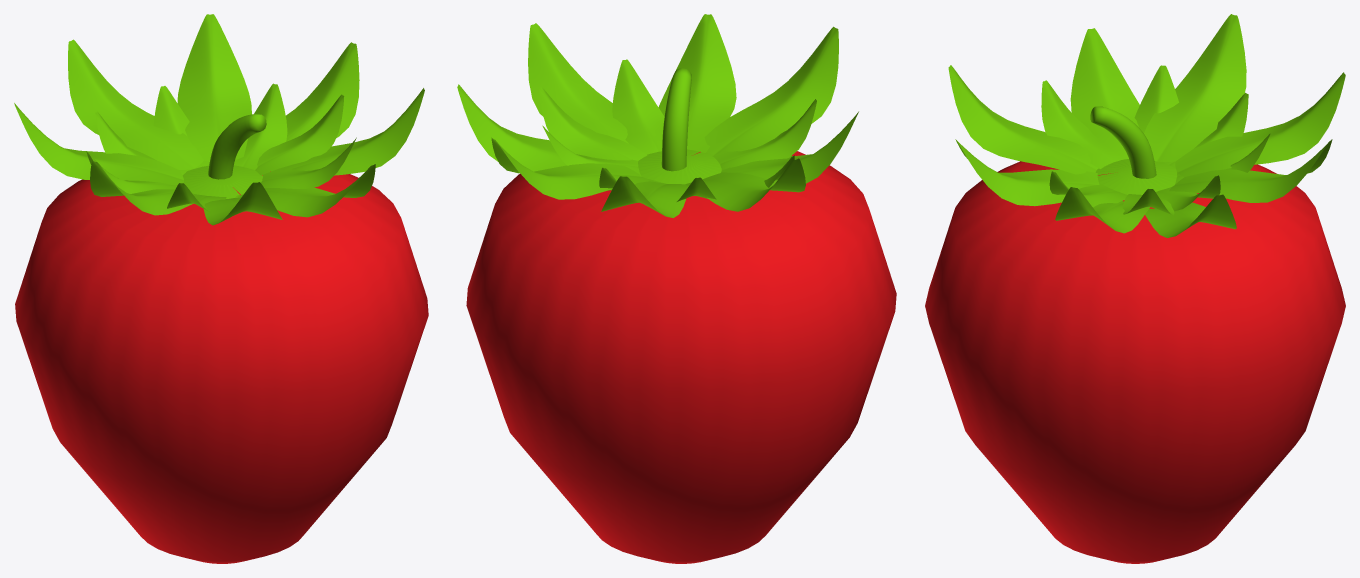
Rendered from Strawberry.fbx.
The picture shows the model from 3 angles, left to right: view 1: azimuth 30°, elevation 25°; view 2: azimuth 150°, elevation 25°; view 3: azimuth 270°, elevation 25°; orthographic projection. The views are drawn at different scales.
Parts seen in each view (by area): view 1: strawberry; view 2: strawberry; view 3: strawberry.
Part boxes in pixels (<box>): strawberry: <box>14,14,428,563</box>; strawberry: <box>457,14,896,563</box>; strawberry: <box>925,14,1345,563</box>.
Bounding box in the file's own units: 229 × 276 × 229.
